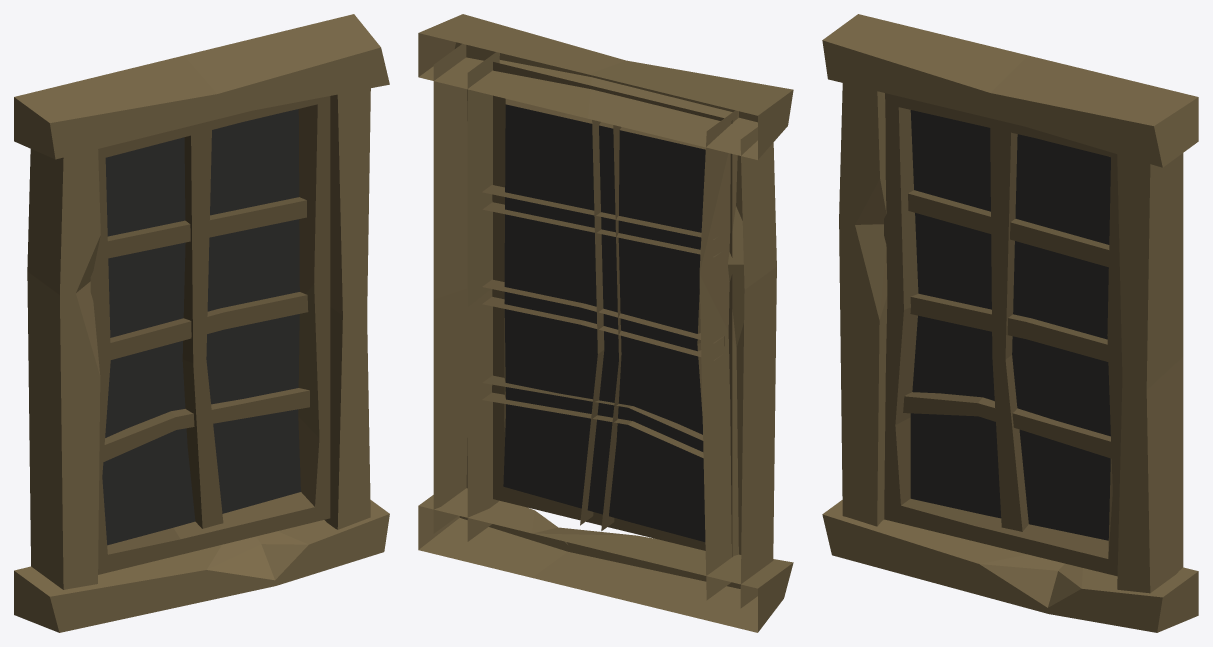
The model's file is Window_4.fbx.
3 views of the same model, side by side, from view 1: azimuth 30°, elevation 25°; view 2: azimuth 150°, elevation 25°; view 3: azimuth 330°, elevation 25° (orthographic).
Parts seen in each view (by area): view 1: Window_4; view 2: Window_4; view 3: Window_4.
Boxes of the visible parts, x1,y1,x2,y2 form: Window_4: (14,14,389,632); Window_4: (418,14,793,632); Window_4: (822,14,1198,632).
Bounding box in the file's own units: 118 × 172 × 21.61.
